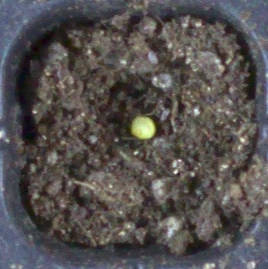chilli seed: (130, 115, 156, 139)
